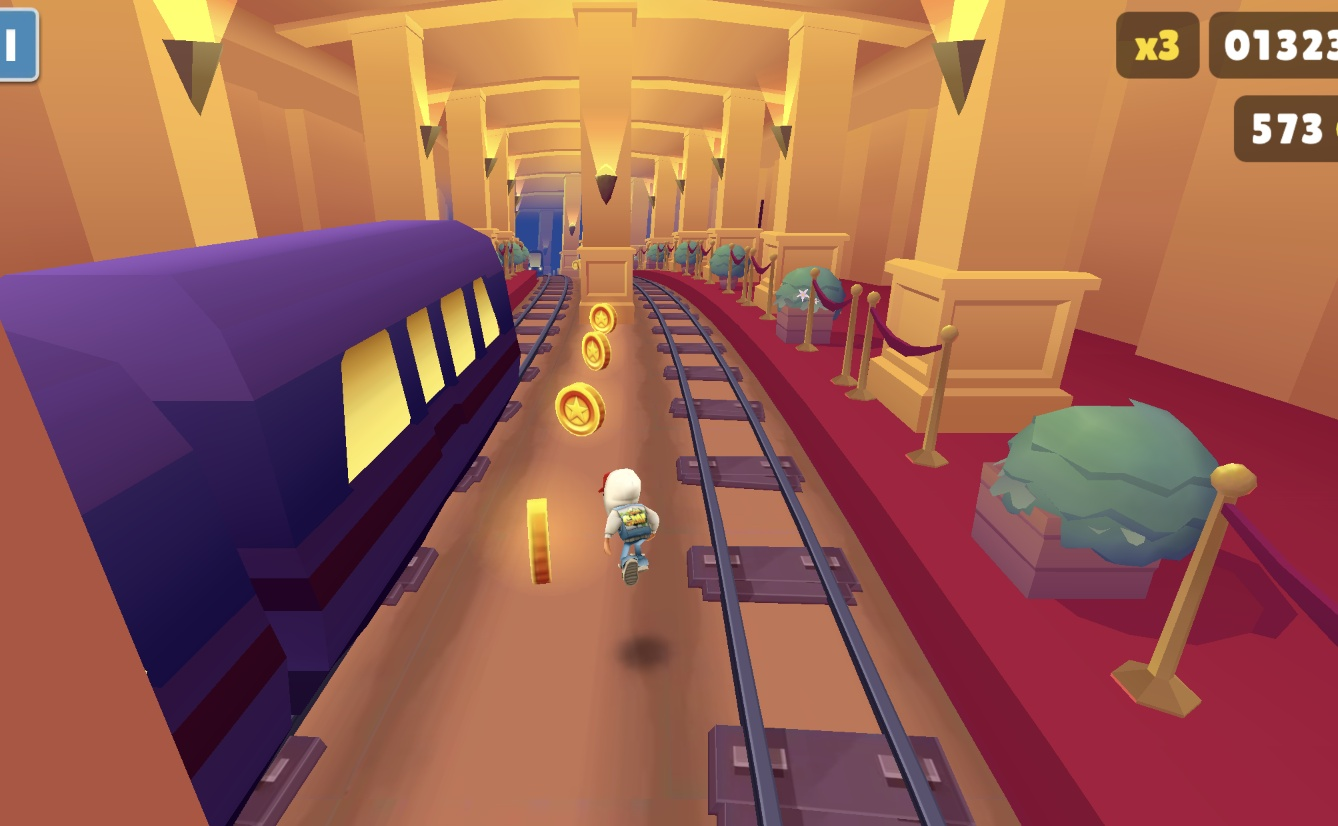pillar: (572, 0, 637, 334)
train: (0, 222, 524, 826)
